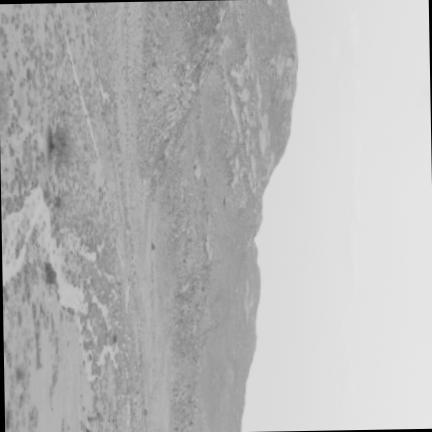Shahed: (221, 195, 224, 211)
